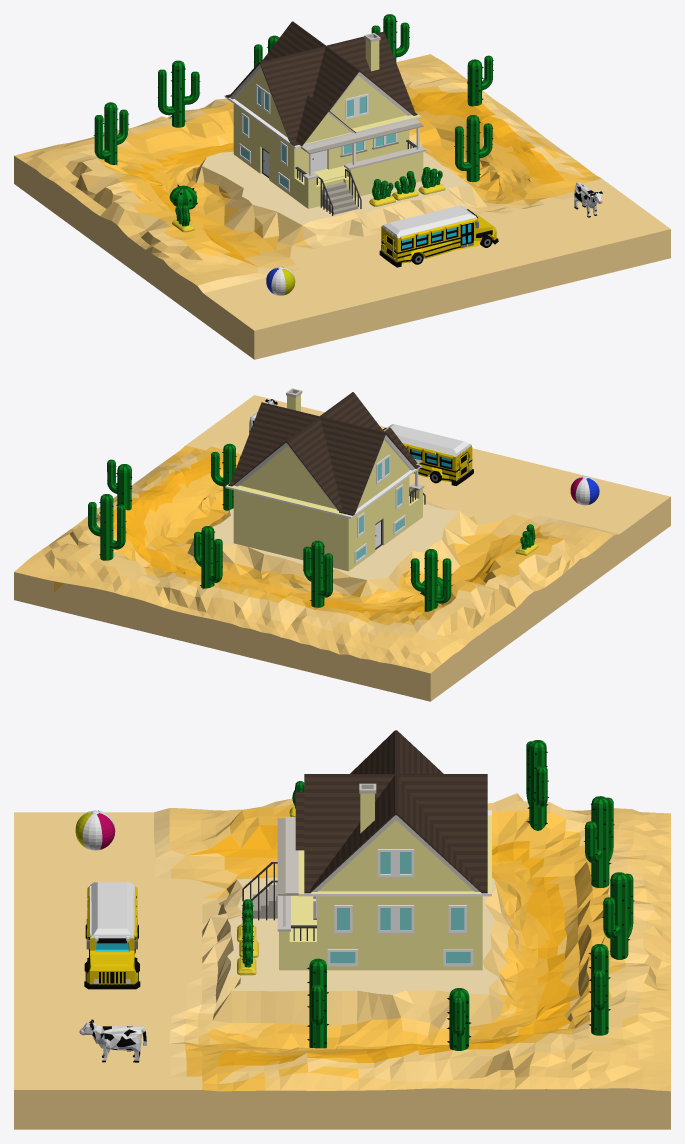
3 views of the same model, one above another, from view 1: azimuth 30°, elevation 25°; view 2: azimuth 150°, elevation 25°; view 3: azimuth 270°, elevation 25° (orthographic). The views are drawn at different scales.
Parts seen in each view (by area): view 1: Cube.001, Cube.1555, VEHICLES_SCHOOL_BUS, Cylinder.037, Cylinder.044, Cylinder.045, Cylinder.038, Cylinder.042, OBJRANDOM_BEACHBALL, ANIMAL_VACA, Cylinder.039, Cylinder.041 (+2 smaller); view 2: Cube.001, Cube.1555, VEHICLES_SCHOOL_BUS, Cylinder.042, Cylinder.045, Cylinder.044, Cylinder.043, Cylinder.037, Cylinder.038, OBJRANDOM_BEACHBALL; view 3: Cube.001, Cube.1555, VEHICLES_SCHOOL_BUS, Cylinder.043, Cylinder.044, Cylinder.045, Cylinder.042, Cylinder.037, ANIMAL_VACA, OBJRANDOM_BEACHBALL, Cylinder.038, Cylinder.041.
Part boxes in pixels (x1,y1,x2,y2): Cube.001: (14,54,670,359); Cube.1555: (224,21,426,215); VEHICLES_SCHOOL_BUS: (379,205,498,267); Cylinder.037: (454,115,493,182); Cylinder.044: (157,60,200,127); Cylinder.045: (93,102,129,164); Cylinder.038: (467,55,493,106); Cylinder.042: (371,14,409,62); OBJRANDOM_BEACHBALL: (266,266,295,295); ANIMAL_VACA: (574,182,602,217); Cylinder.039: (369,179,395,206); Cylinder.041: (418,167,445,194); Cube.001: (14,395,670,701); Cube.1555: (225,388,425,571); VEHICLES_SCHOOL_BUS: (383,424,473,485); Cylinder.042: (88,494,126,560); Cylinder.045: (410,549,452,611); Cylinder.044: (303,540,333,607); Cylinder.043: (193,526,222,588); Cylinder.037: (211,443,240,510); Cylinder.038: (107,459,131,510); OBJRANDOM_BEACHBALL: (570,476,599,505); Cube.001: (14,793,670,1129); Cube.1555: (242,730,491,970); VEHICLES_SCHOOL_BUS: (84,882,140,989); Cylinder.043: (602,872,634,959); Cylinder.044: (584,796,614,887); Cylinder.045: (526,740,548,830); Cylinder.042: (588,944,610,1035); Cylinder.037: (307,958,328,1048); ANIMAL_VACA: (79,1019,146,1062); OBJRANDOM_BEACHBALL: (75,810,115,850); Cylinder.038: (447,988,471,1050); Cylinder.041: (237,932,256,975).
Size of the model in its own units: 4002 by 1576 by 4001.
Materials: 35 (3 with a texture image).
